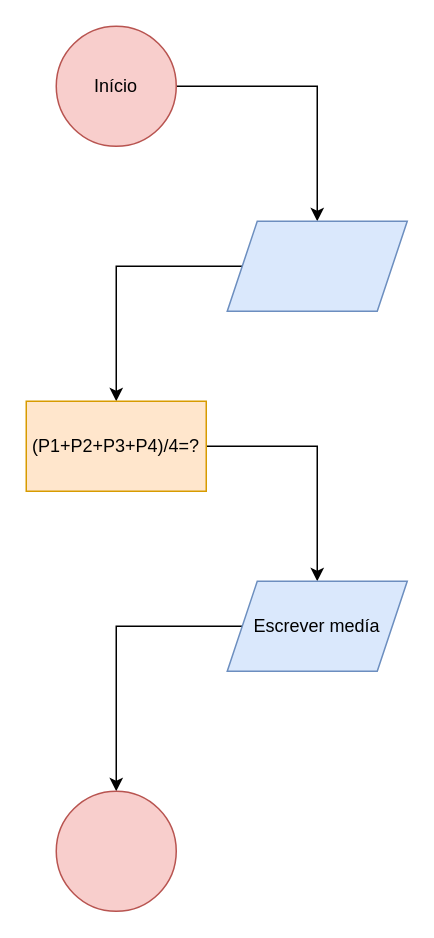
The diagram is 434 pixels wide and 938 high, and some of its shapes have lost their labels. The centre of each missing label's shape, as x and y in pixels:
Fim: the point at 115,850
ler: the point at 316,265
